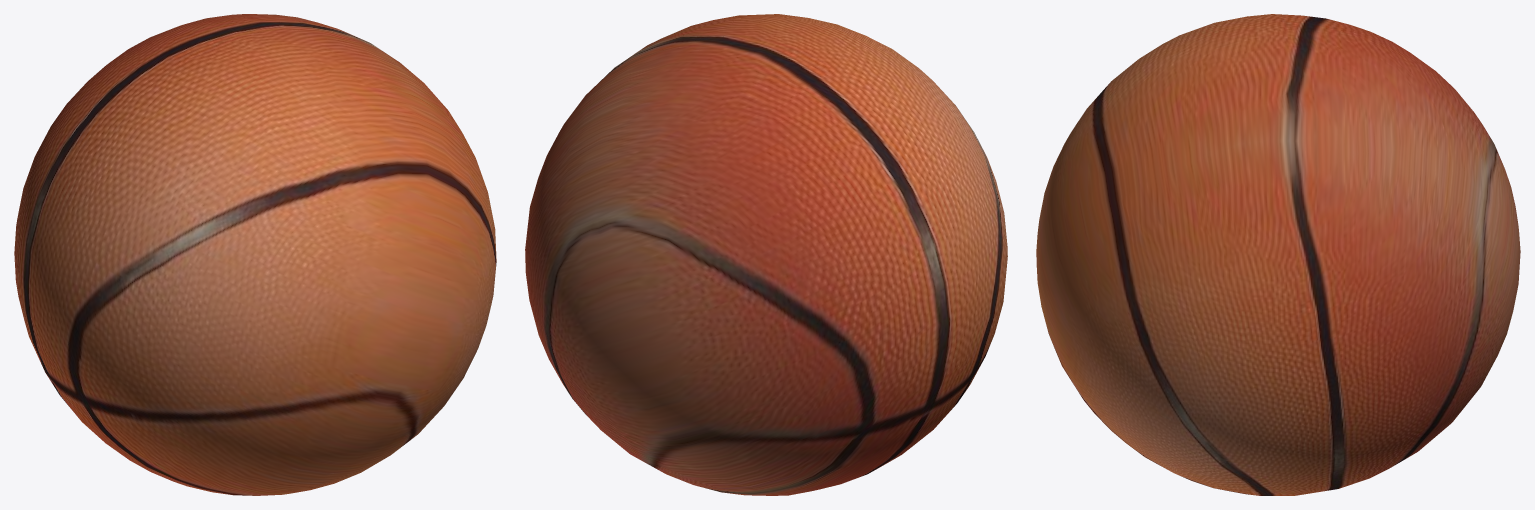
Rendered from basketball_0.1.obj.
3 views of the same model, side by side, from view 1: azimuth 30°, elevation 25°; view 2: azimuth 150°, elevation 25°; view 3: azimuth 270°, elevation 25° (orthographic).
Visible parts, largest first — view 1: Sphere; view 2: Sphere; view 3: Sphere.
Boxes of the visible parts, <box> form: Sphere: <box>14,14,496,495</box>; Sphere: <box>525,14,1007,495</box>; Sphere: <box>1036,14,1520,495</box>.
Bounding box in the file's own units: 1.97 × 1.98 × 1.99.
